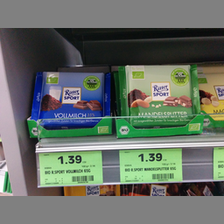chocolate: (118, 65, 198, 128), (30, 69, 109, 128)
